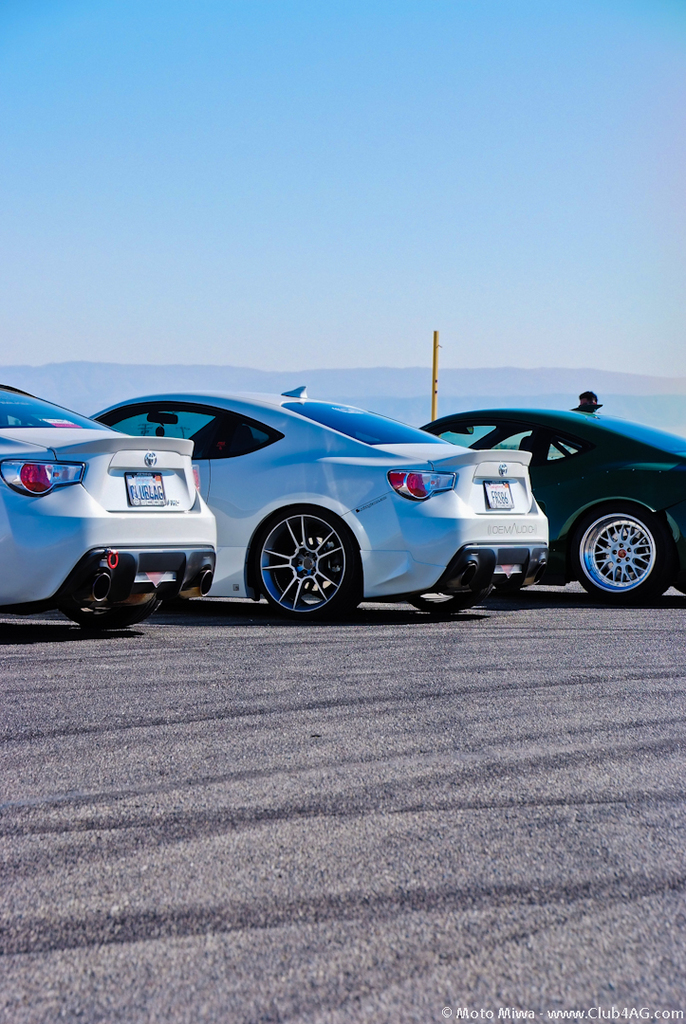Car: (93, 391, 556, 616), (0, 383, 219, 630), (417, 402, 685, 593)
